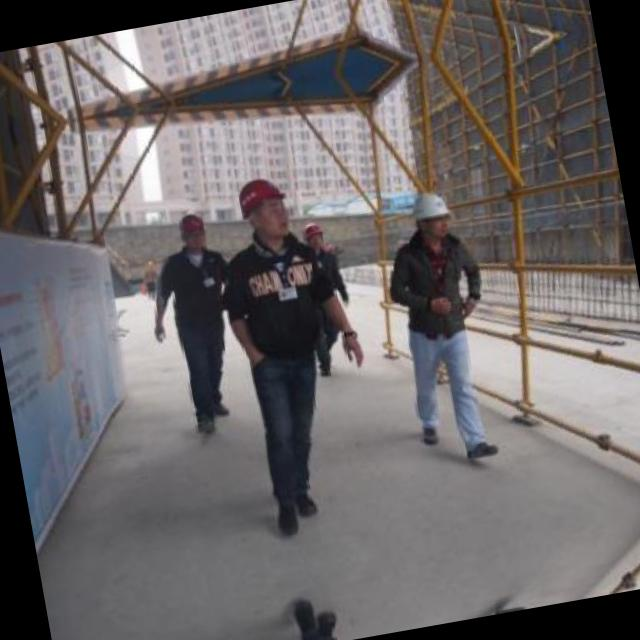helmet: (228, 164, 297, 248), (404, 184, 458, 243), (172, 206, 210, 254), (297, 213, 324, 252)
